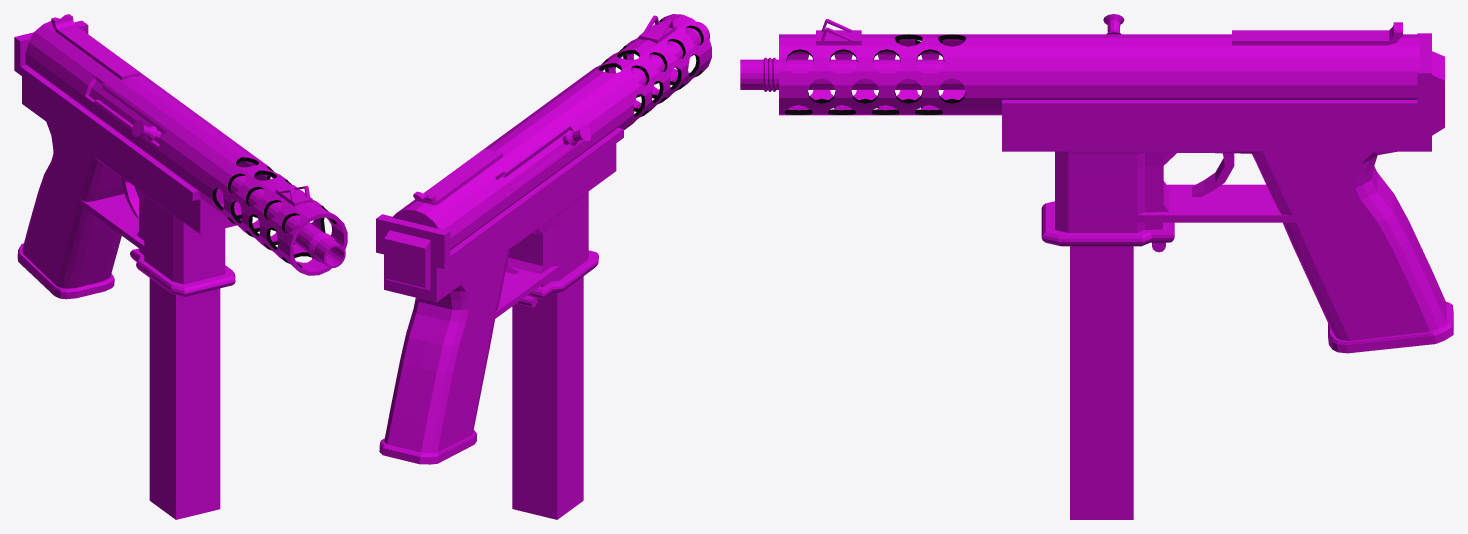
File: TEC-9.fbx
3 views of the same model, side by side, from view 1: azimuth 30°, elevation 25°; view 2: azimuth 150°, elevation 25°; view 3: azimuth 270°, elevation 25° (orthographic). The views are drawn at different scales.
Visible parts, largest first — view 1: GunItself; view 2: GunItself; view 3: GunItself.
Part boxes in pixels (x1=…): GunItself: x1=14, y1=14, x2=347, y2=519; GunItself: x1=376, y1=14, x2=711, y2=519; GunItself: x1=740, y1=14, x2=1453, y2=519.
Bounding box in the file's own units: 0.0318 × 0.2038 × 0.1521.
